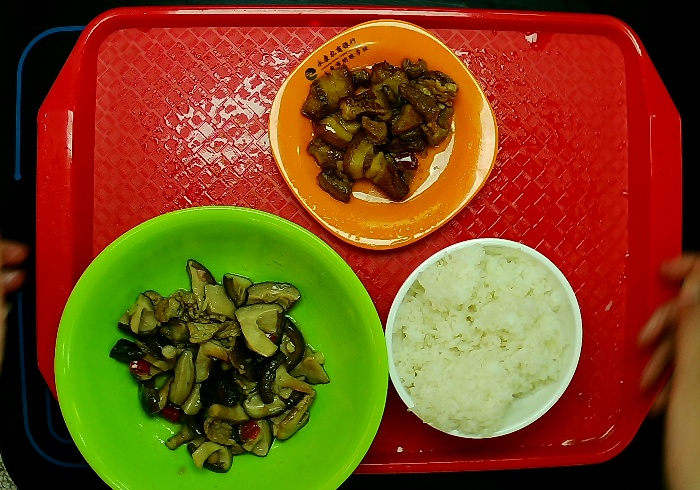YKMZ-Fan_Wan: (380, 234, 589, 444)
YKMZ-Ju_Se_Fang_Die: (263, 15, 503, 254)
YKMZ-Lv_Se_Tang_Wan: (47, 202, 391, 490)
